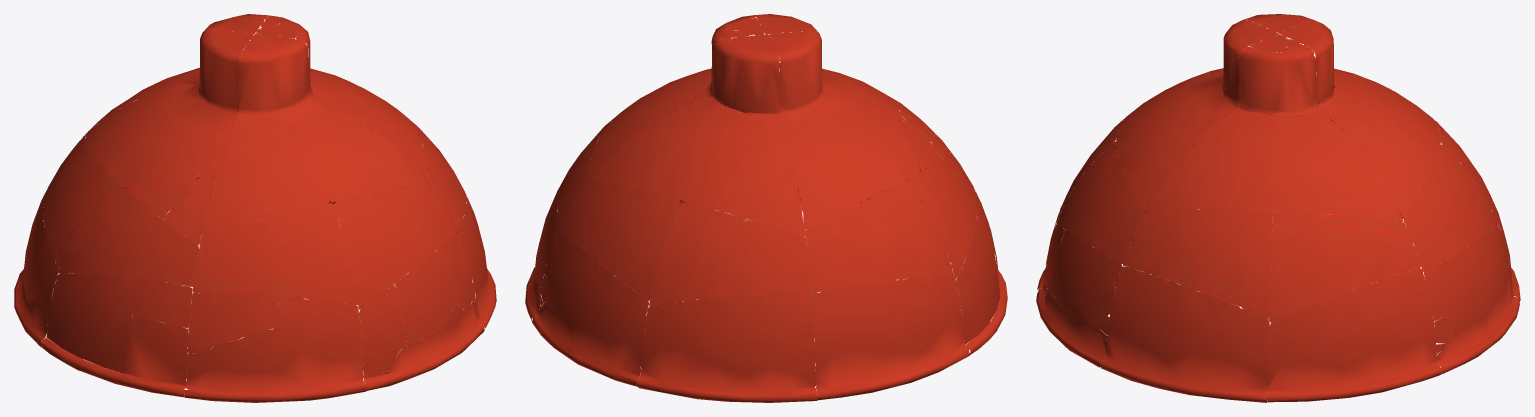
File: pendant-tripo.glb
3 views of the same model, side by side, from view 1: azimuth 30°, elevation 25°; view 2: azimuth 150°, elevation 25°; view 3: azimuth 270°, elevation 25° (orthographic).
Parts seen in each view (by area): view 1: tripo_node_aa915dc3-3cf7-4964-8172-d5d273d55c82; view 2: tripo_node_aa915dc3-3cf7-4964-8172-d5d273d55c82; view 3: tripo_node_aa915dc3-3cf7-4964-8172-d5d273d55c82.
Part boxes in pixels (x1,y1,x2,y2): tripo_node_aa915dc3-3cf7-4964-8172-d5d273d55c82: (14,14,496,402); tripo_node_aa915dc3-3cf7-4964-8172-d5d273d55c82: (525,14,1007,402); tripo_node_aa915dc3-3cf7-4964-8172-d5d273d55c82: (1036,14,1520,402).
Bounding box in the file's own units: 0.9975 × 0.6465 × 0.9998.
1 material, 1 textured.
